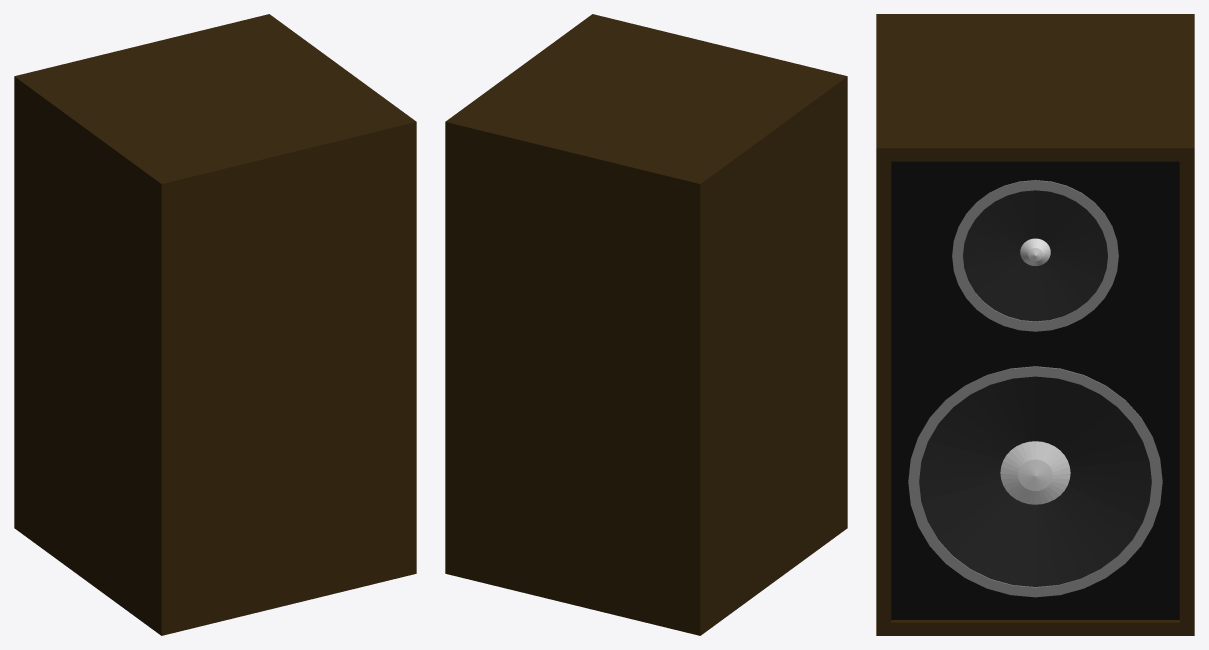
Rendered from box_speaker.fbx.
3 views of the same model, side by side, from view 1: azimuth 30°, elevation 25°; view 2: azimuth 150°, elevation 25°; view 3: azimuth 270°, elevation 25° (orthographic). The views are drawn at different scales.
Parts seen in each view (by area): view 1: SpeakerLeft; view 2: SpeakerLeft; view 3: SpeakerLeft.
Part boxes in pixels (<box>): SpeakerLeft: <box>14,14,416,635</box>; SpeakerLeft: <box>445,14,847,635</box>; SpeakerLeft: <box>876,14,1194,635</box>.
Bounding box in the file's own units: 75 × 127 × 75.
